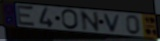0: (125, 14, 142, 36)
4: (39, 7, 55, 29)
E: (16, 4, 37, 28)
N: (79, 10, 101, 33)
O: (60, 9, 80, 31)
V: (102, 13, 122, 34)
